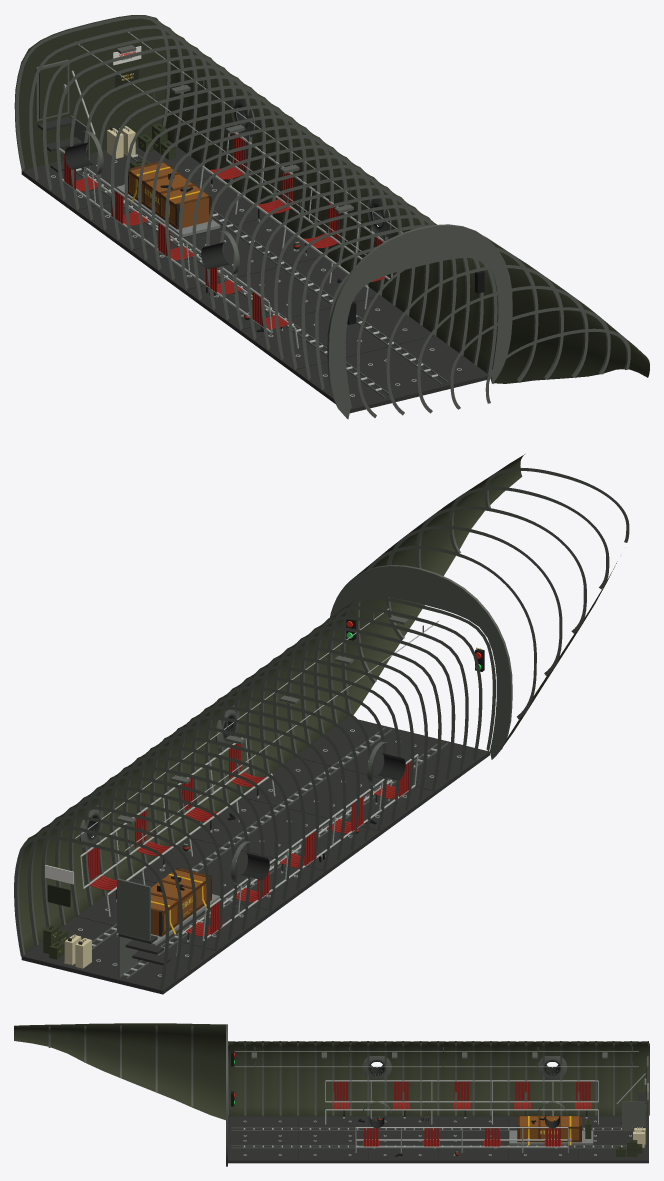
The model's file is c130-hold.glb.
The picture shows the model from 3 angles, top to bottom: view 1: azimuth 30°, elevation 25°; view 2: azimuth 150°, elevation 25°; view 3: azimuth 270°, elevation 25°; orthographic projection. The views are drawn at different scales.
Parts seen in each view (by area): view 1: C130_Hold; view 2: C130_Hold; view 3: C130_Hold.
Part boxes in pixels (x1,y1,x2,y2): C130_Hold: (14, 15, 649, 419); C130_Hold: (14, 454, 629, 994); C130_Hold: (14, 1023, 649, 1166).
Bounding box in the file's own units: 4.27 × 3.65 × 18.88.
